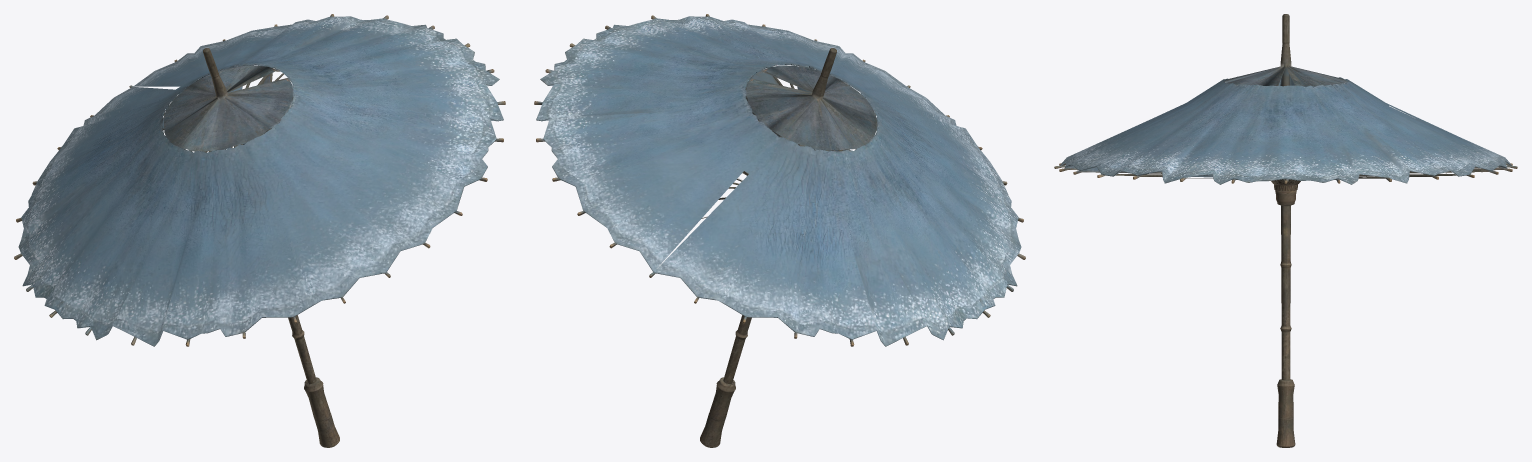
File: snow-umbrella.glb
3 renders of one model, left to right at view 1: azimuth 30°, elevation 25°; view 2: azimuth 150°, elevation 25°; view 3: azimuth 270°, elevation 25°, orthographic. The views are drawn at different scales.
Parts seen in each view (by area): view 1: eecf05b8_f0bc_41e3_b725_99aa4a84d5af; view 2: eecf05b8_f0bc_41e3_b725_99aa4a84d5af; view 3: eecf05b8_f0bc_41e3_b725_99aa4a84d5af.
Boxes of the visible parts, x1,y1,x2,y2 form: eecf05b8_f0bc_41e3_b725_99aa4a84d5af: (14, 14, 505, 447); eecf05b8_f0bc_41e3_b725_99aa4a84d5af: (534, 14, 1025, 447); eecf05b8_f0bc_41e3_b725_99aa4a84d5af: (1054, 14, 1517, 447).
Size of the model in its own units: 0.9341 by 0.9067 by 0.9995.
1 material, 1 textured.
